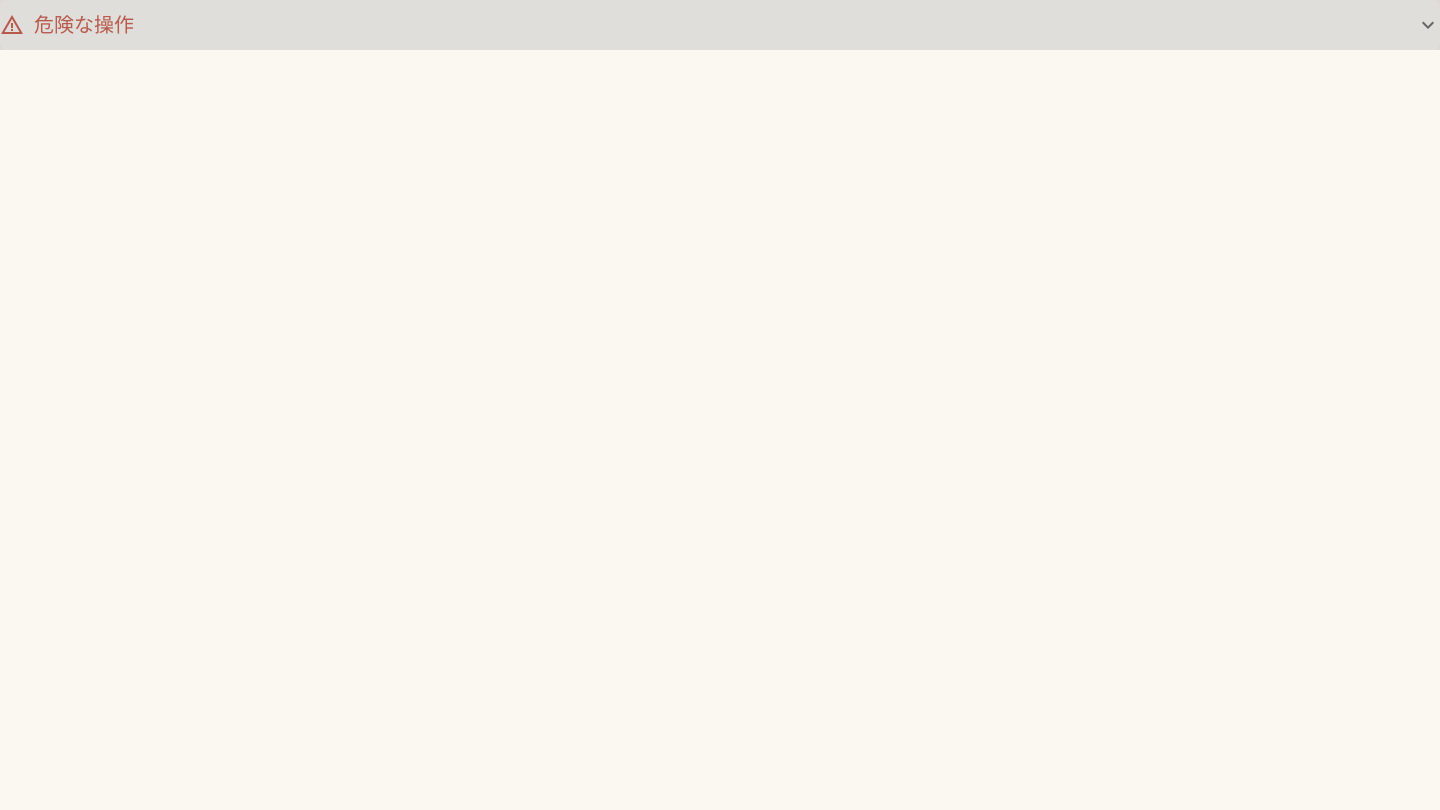
Test case: GroupDangerZone › 削除開始ボタンを押すとグループ削除ダイアログを表示する
Press Enter
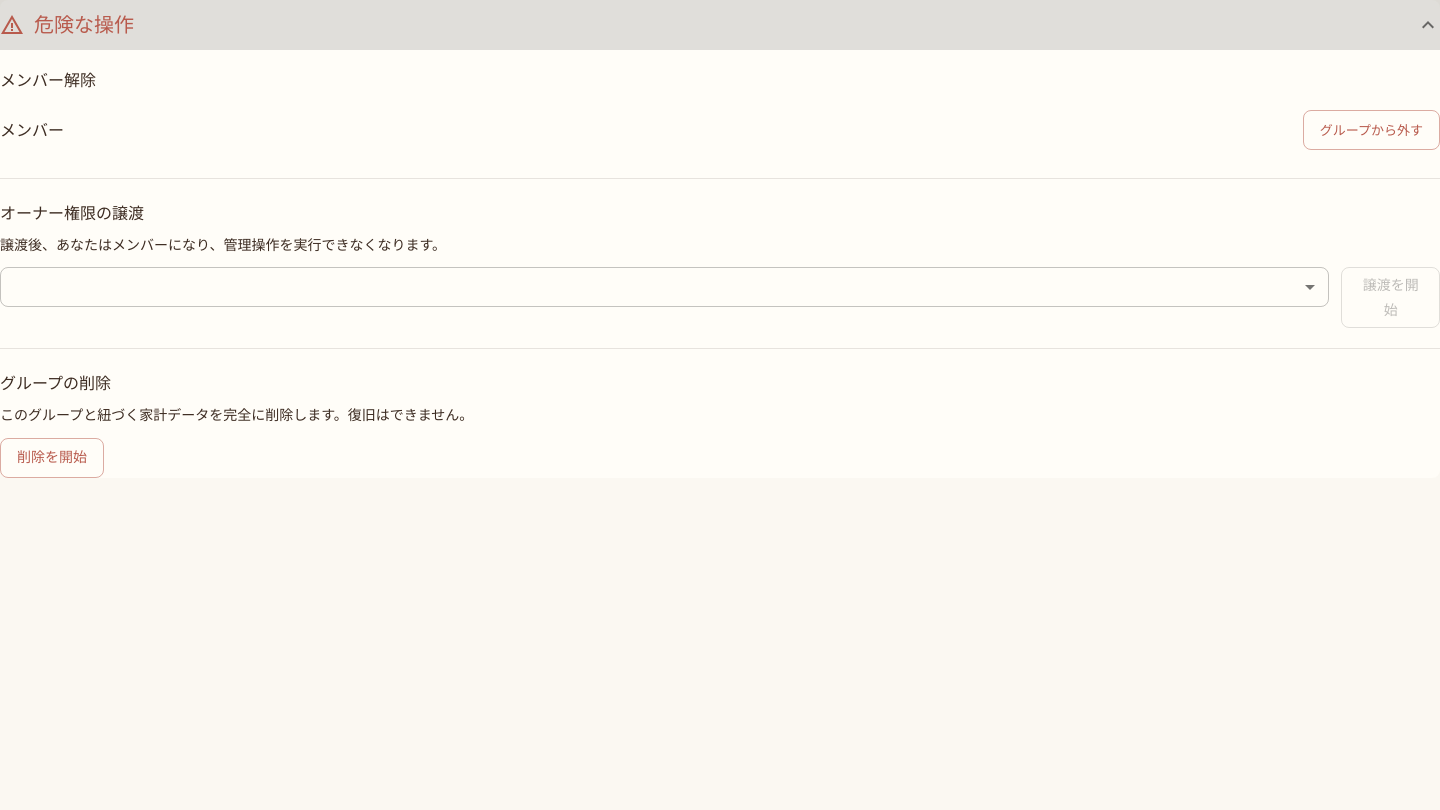
Click the button with test id "delete-group-request-button".
click(52, 458)  # box 0,438 -> 104,478
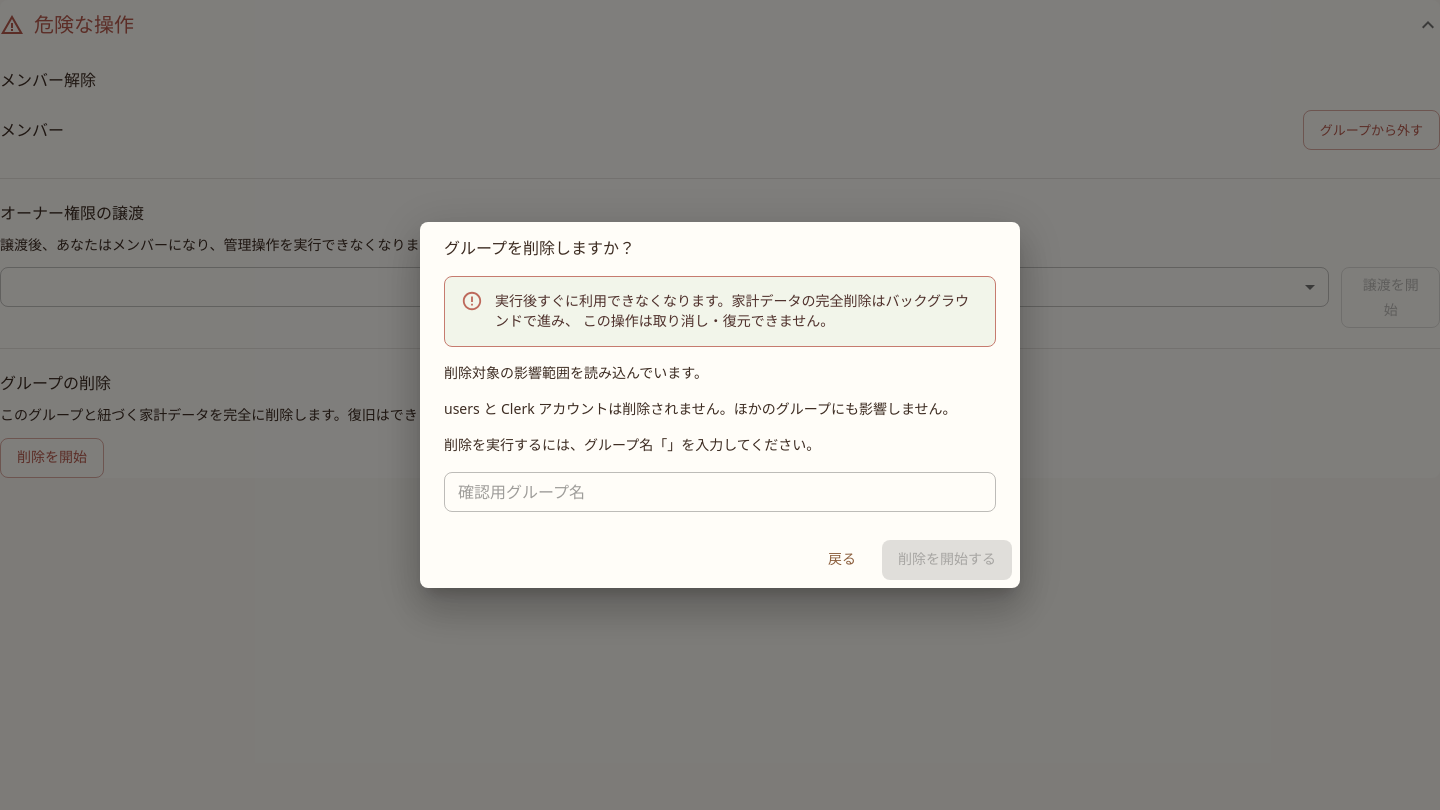
expect the dialog is shown: met, box 420,222 -> 1020,588
expect the heading "グループを削除しますか？" is shown: met, box 444,238 -> 635,260
